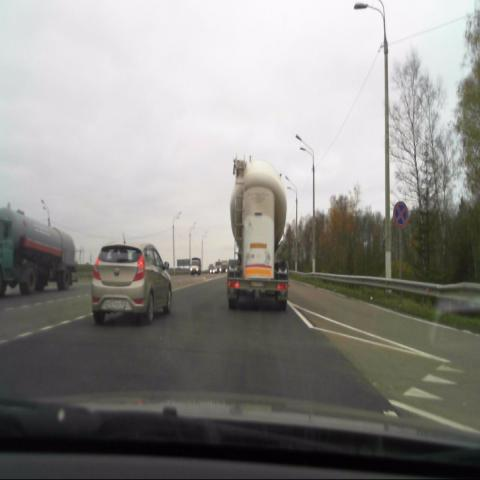3_27: (391, 199, 410, 229)
